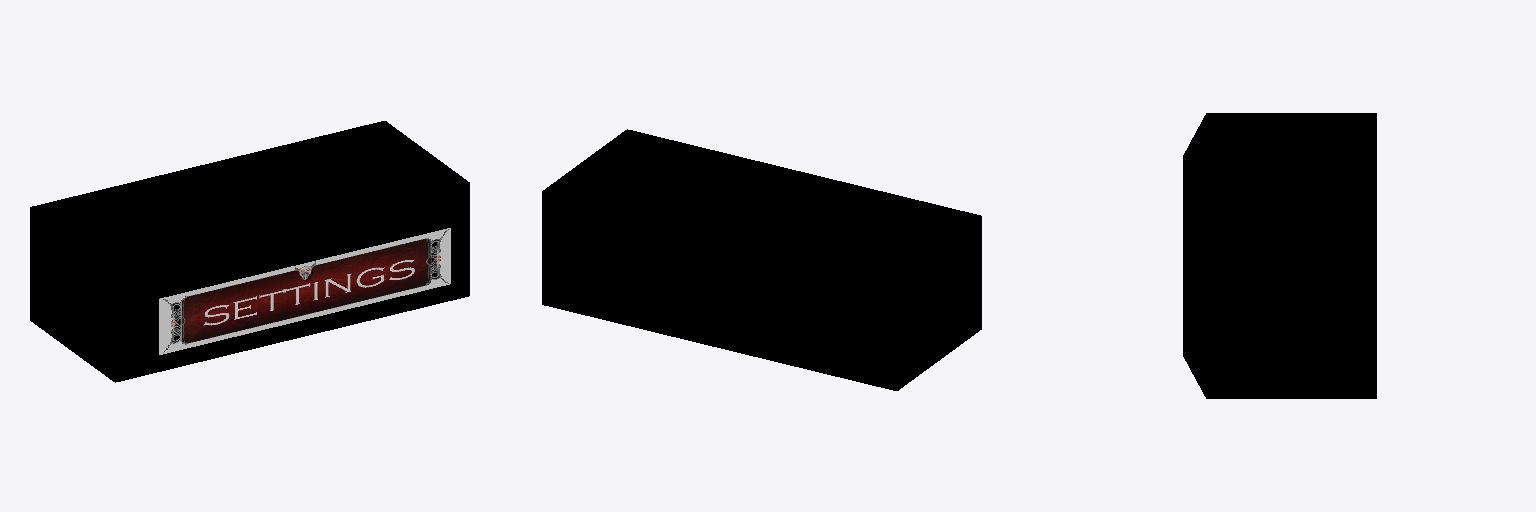
The picture shows the model from 3 angles: view 1: azimuth 30°, elevation 25°; view 2: azimuth 150°, elevation 25°; view 3: azimuth 270°, elevation 25°; orthographic projection.
Parts seen in each view (by area): view 1: ExitButton:pCube2; view 2: ExitButton:pCube2; view 3: ExitButton:pCube2.
Boxes of the visible parts, x1=… form: ExitButton:pCube2: x1=30, y1=121, x2=469, y2=382; ExitButton:pCube2: x1=542, y1=129, x2=981, y2=390; ExitButton:pCube2: x1=1183, y1=113, x2=1376, y2=398.
Bounding box in the file's own units: 1.46 × 0.443 × 0.69.
Materials: 2 (1 with a texture image).